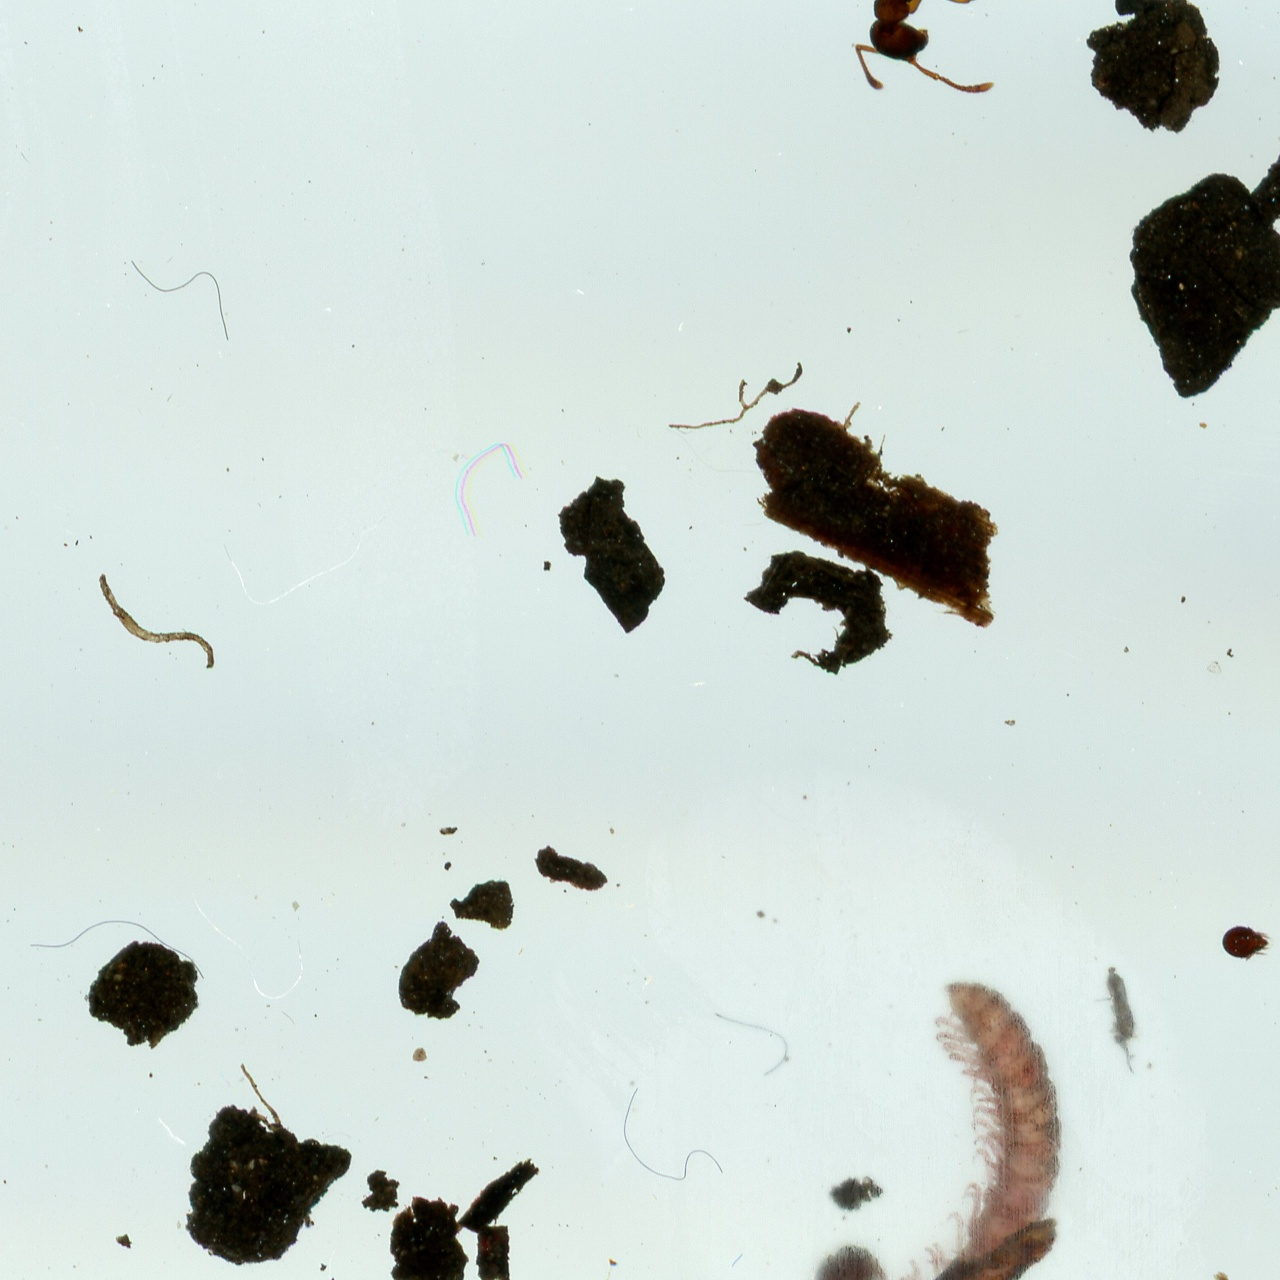arthropod: (871, 973, 1076, 1280), (845, 0, 1006, 104), (1084, 948, 1141, 1076), (1218, 922, 1273, 964)
